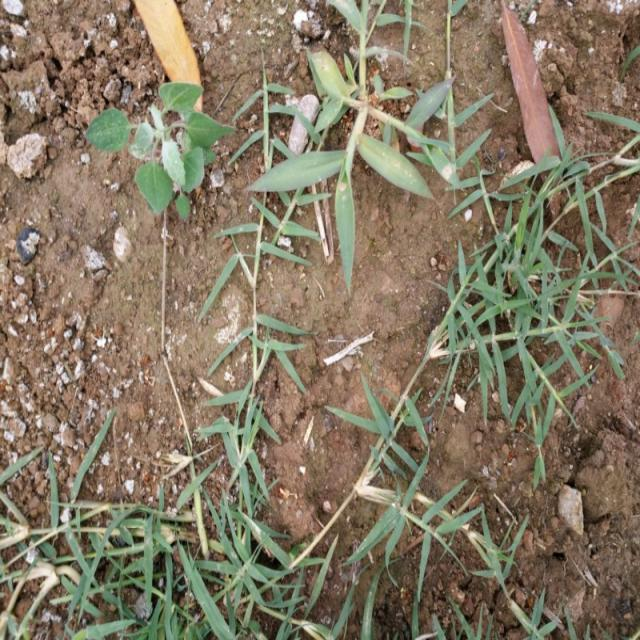ca: (84, 80, 236, 218)
